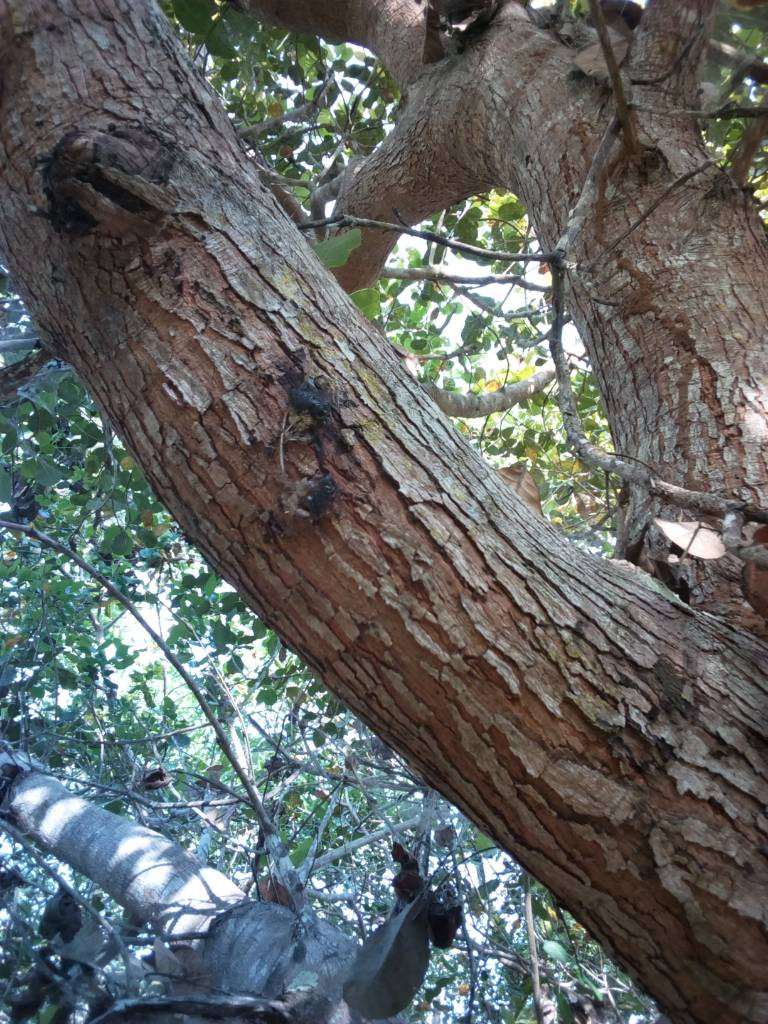Mecocorynus longiceps: (218, 305, 414, 588)
